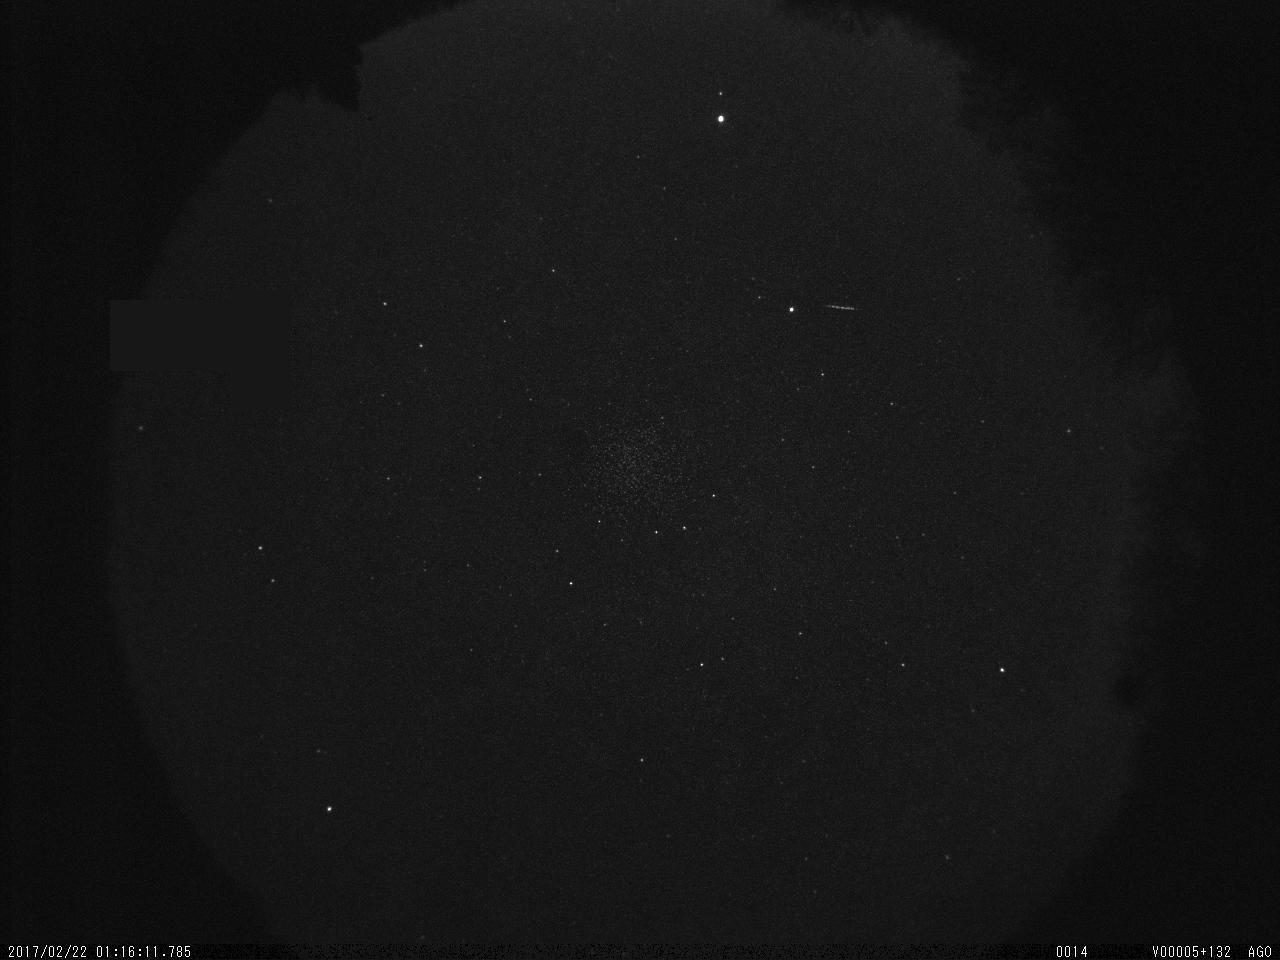meteor: (820, 301, 867, 316)
